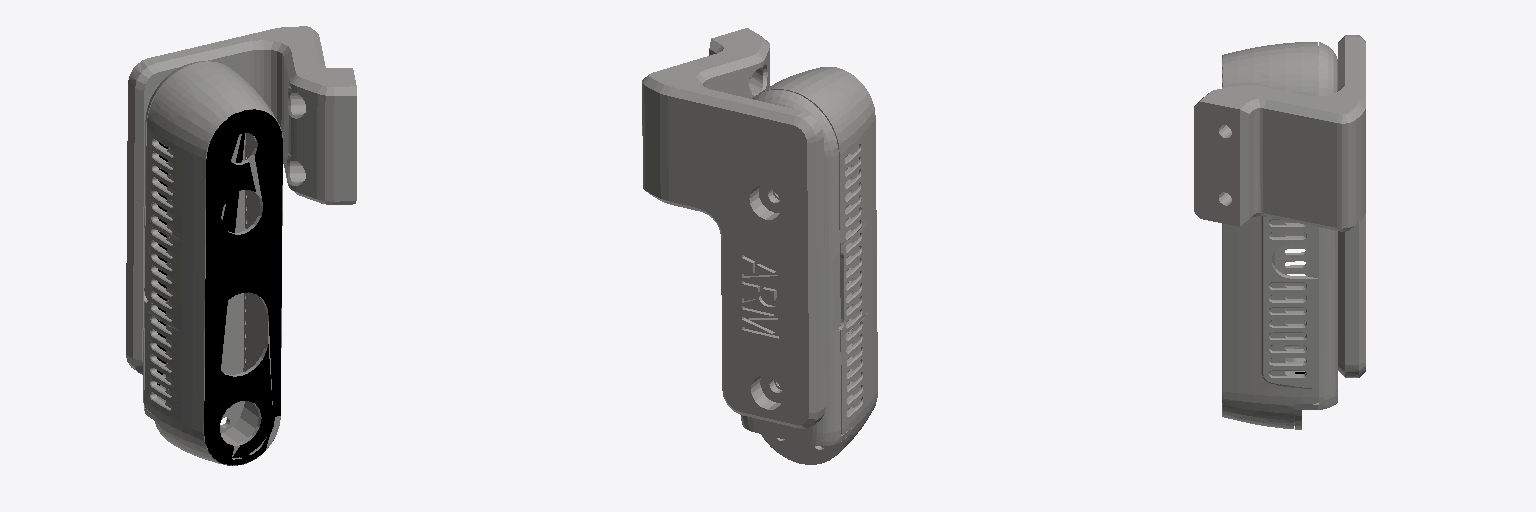
3 renders of one model, left to right at view 1: azimuth 30°, elevation 25°; view 2: azimuth 150°, elevation 25°; view 3: azimuth 270°, elevation 25°, orthographic.
Visible parts, largest first — view 1: left_realsense_link; view 2: left_realsense_link; view 3: left_realsense_link.
Part boxes in pixels (bbox=[...]): left_realsense_link: bbox=[126, 26, 356, 465]; left_realsense_link: bbox=[642, 28, 877, 464]; left_realsense_link: bbox=[1194, 35, 1365, 429].
Size of the model in its own units: 0.0461 by 0.0899 by 0.0372.
1 materials, 1 textured.